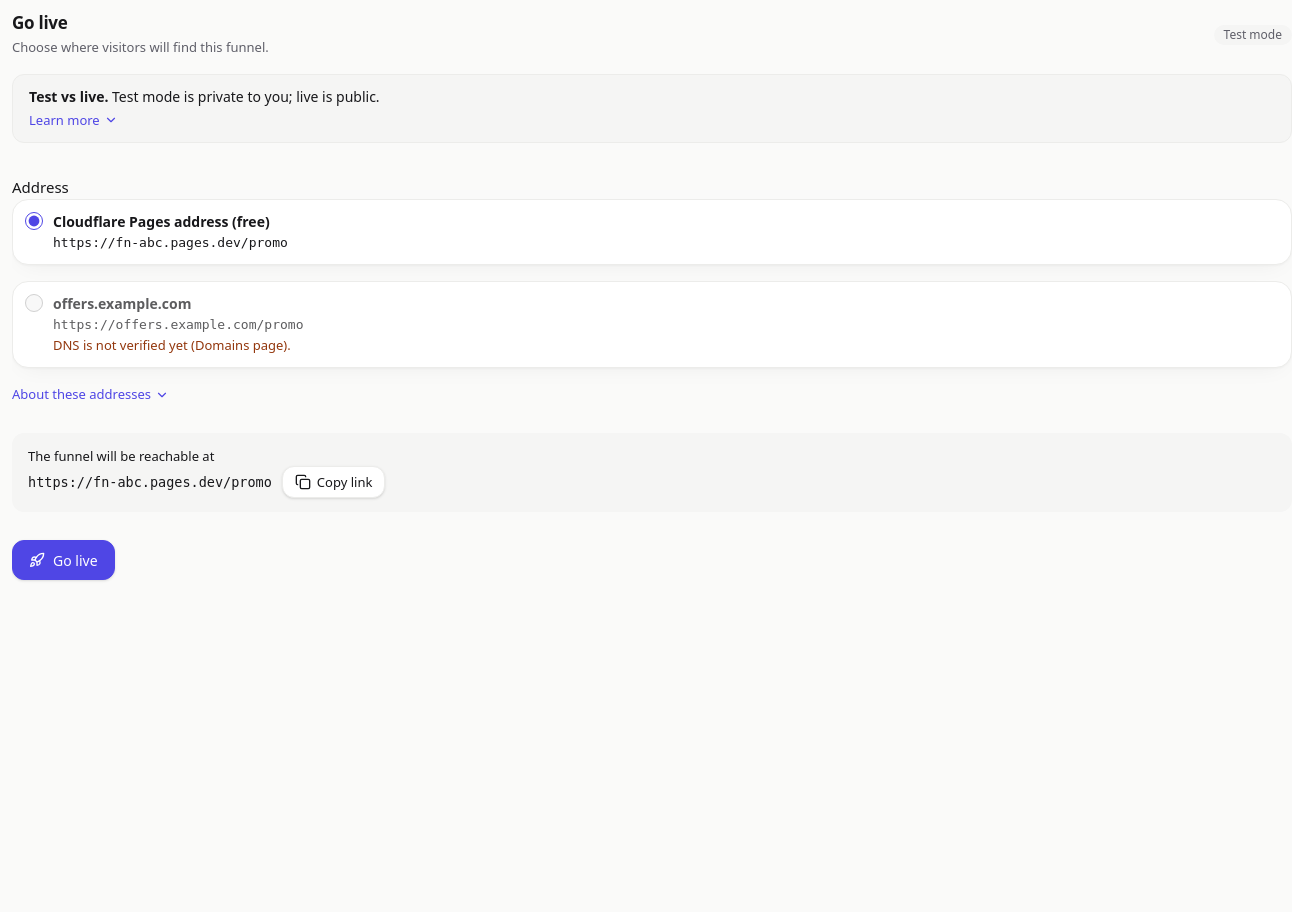
GoLivePanel › shows the limit message from the server and does not claim success
Step 1. Click the button "Go live" → (63, 560), box 12,540 -> 114,580
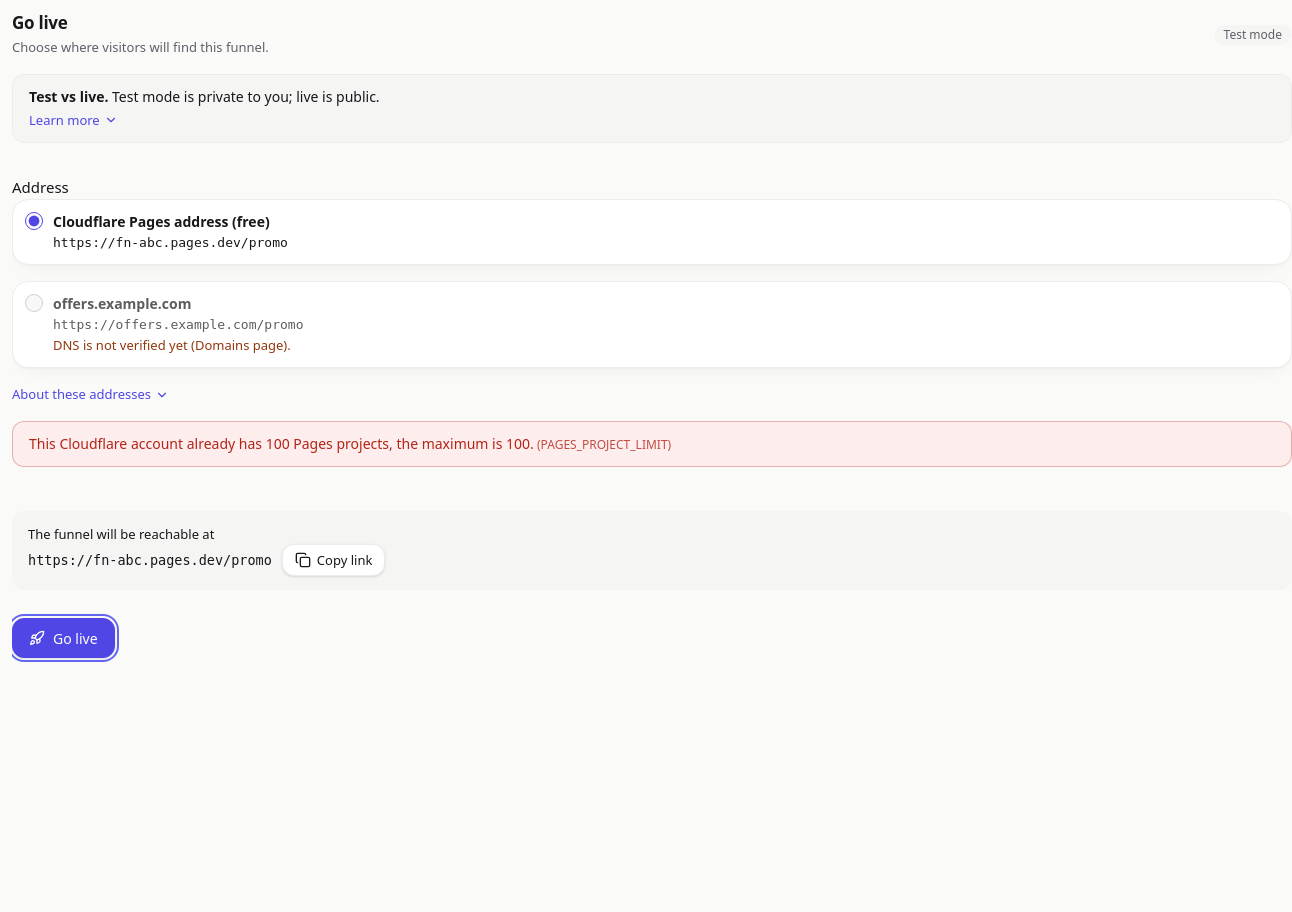
Expected: the text "maximum is 100" is shown, 29,434 -> 534,453
